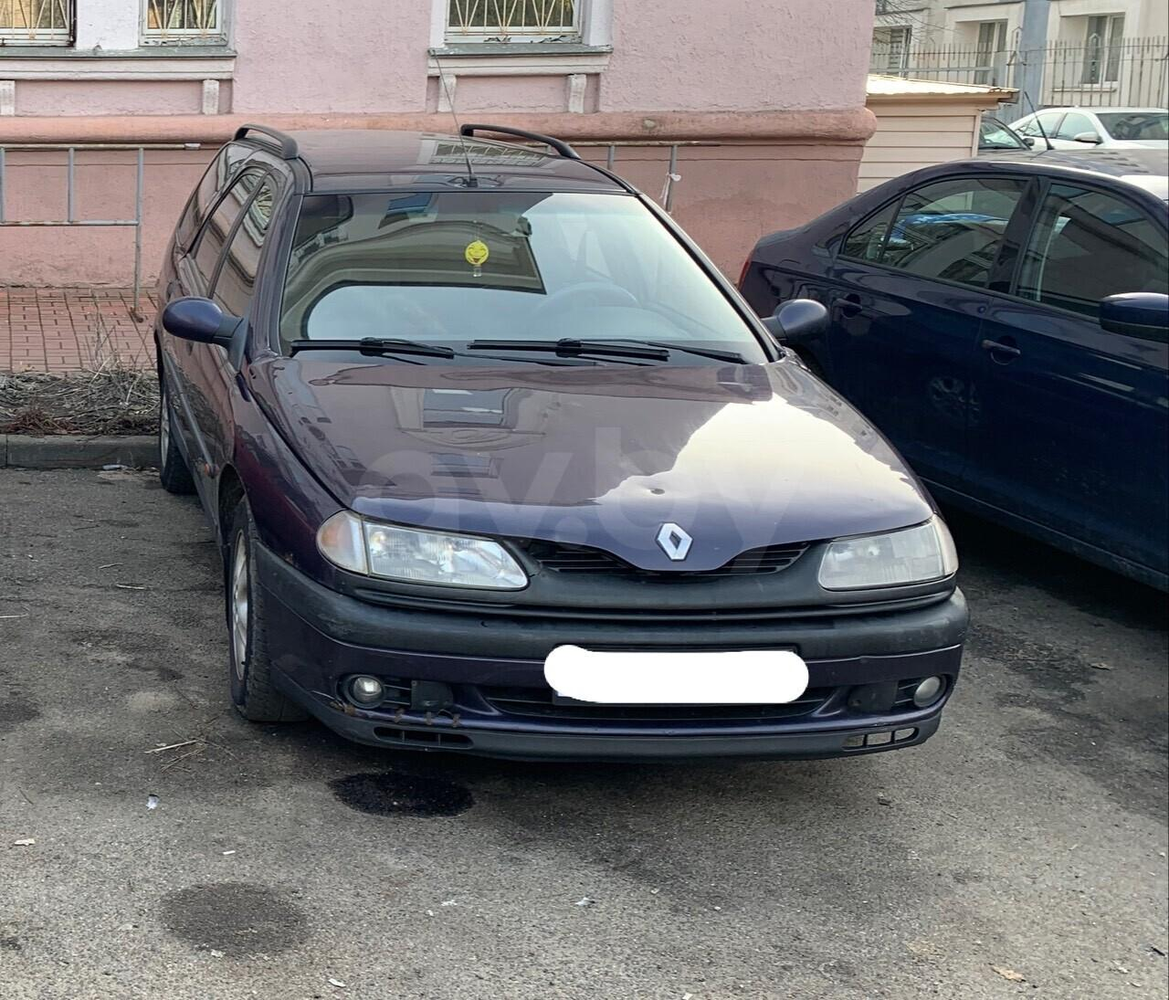Lahuna_1993-1999: (140, 116, 969, 809)
